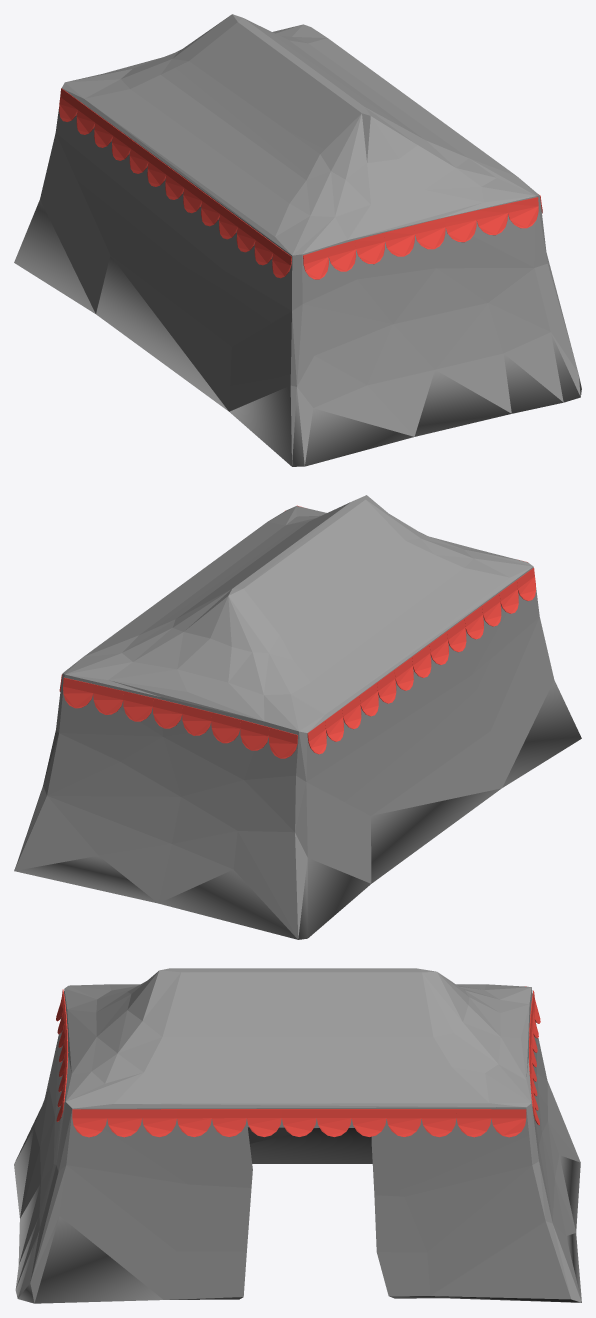
File: tent_b.FBX
3 views of the same model, one above another, from view 1: azimuth 30°, elevation 25°; view 2: azimuth 150°, elevation 25°; view 3: azimuth 270°, elevation 25° (orthographic).
Visible parts, largest first — view 1: tent_b.001, tent_b; view 2: tent_b.001, tent_b; view 3: tent_b.001, tent_b.
Boxes of the visible parts, left/top/right/bottom form: tent_b.001: left=14, top=14, right=581, bottom=466; tent_b: left=59, top=88, right=542, bottom=279; tent_b.001: left=14, top=495, right=581, bottom=939; tent_b: left=59, top=505, right=535, bottom=758; tent_b.001: left=14, top=968, right=581, bottom=1303; tent_b: left=56, top=986, right=540, bottom=1137.
Size of the model in its own units: 456 by 385 by 758.
